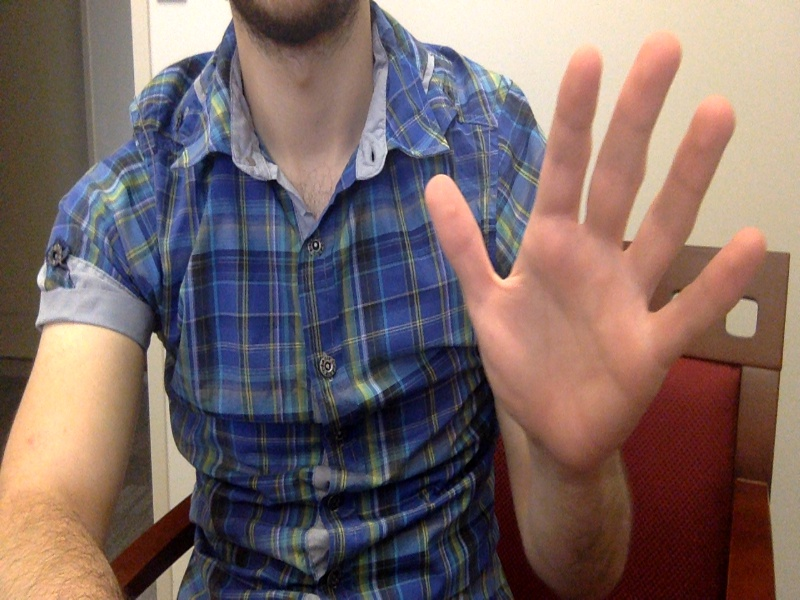5-hand: (423, 32, 767, 462)
